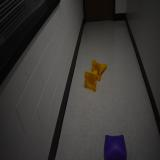cone: (91, 59, 107, 82), (84, 68, 99, 92)
cube: (104, 134, 128, 160)
